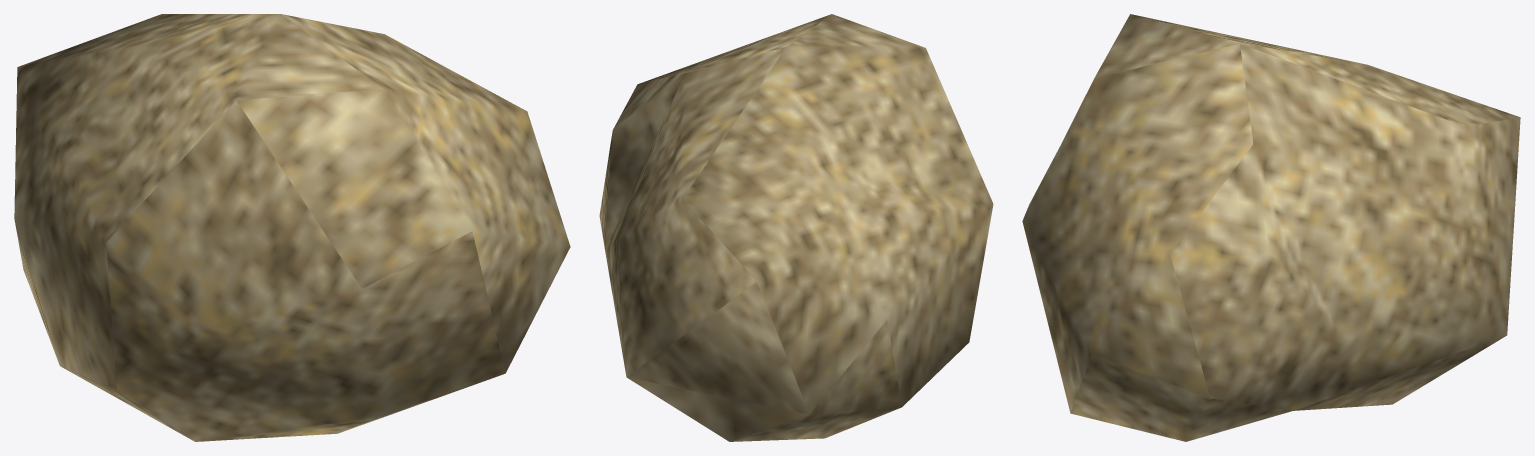
The model's file is lboulderdes_1.dae.
3 views of the same model, side by side, from view 1: azimuth 30°, elevation 25°; view 2: azimuth 150°, elevation 25°; view 3: azimuth 270°, elevation 25° (orthographic). The views are drawn at different scales.
Parts seen in each view (by area): view 1: lboulderdes_1; view 2: lboulderdes_1; view 3: lboulderdes_1.
Part boxes in pixels (x1,y1,x2,y2): lboulderdes_1: [14, 14, 570, 441]; lboulderdes_1: [599, 14, 993, 441]; lboulderdes_1: [1022, 14, 1520, 441].
Size of the model in its own units: 2.08 by 2.17 by 1.76.
1 material, 1 textured.
